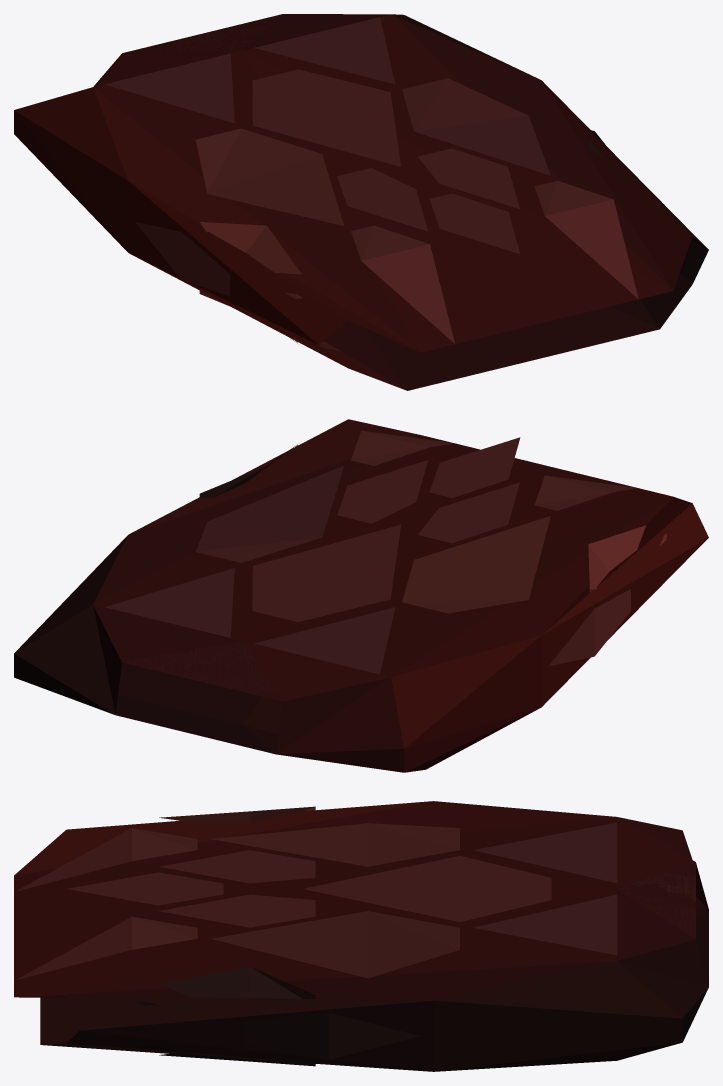
The model's file is red-dhide-body.obj.
3 renders of one model, top to bottom at view 1: azimuth 30°, elevation 25°; view 2: azimuth 150°, elevation 25°; view 3: azimuth 270°, elevation 25°, orthographic.
Visible parts, largest first — view 1: Item Red d'hide body 2026-09-24_17-11-42; view 2: Item Red d'hide body 2026-09-24_17-11-42; view 3: Item Red d'hide body 2026-09-24_17-11-42.
Part boxes in pixels (left/top/right/bottom): Item Red d'hide body 2026-09-24_17-11-42: left=14, top=14, right=708, bottom=390; Item Red d'hide body 2026-09-24_17-11-42: left=14, top=419, right=708, bottom=772; Item Red d'hide body 2026-09-24_17-11-42: left=14, top=801, right=708, bottom=1071.
Bounding box in the file's own units: 36 × 8 × 53.
